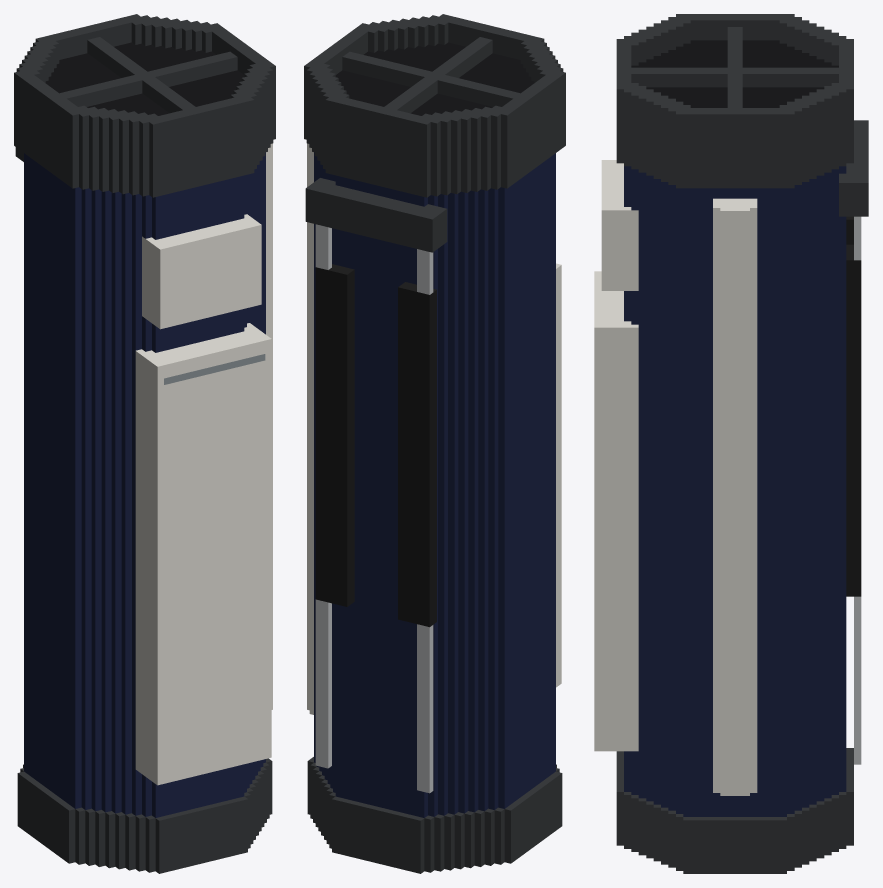
Rendered from golf_bag.glb.
3 views of the same model, side by side, from view 1: azimuth 30°, elevation 25°; view 2: azimuth 150°, elevation 25°; view 3: azimuth 270°, elevation 25° (orthographic).
Visible parts, largest first — view 1: golf_bag:compound; view 2: golf_bag:compound; view 3: golf_bag:compound.
Part boxes in pixels (x1=…): golf_bag:compound: x1=14, y1=14, x2=275, y2=873; golf_bag:compound: x1=304, y1=14, x2=565, y2=873; golf_bag:compound: x1=594, y1=14, x2=868, y2=873.
Size of the model in its own units: 0.28 by 0.904 by 0.296.
